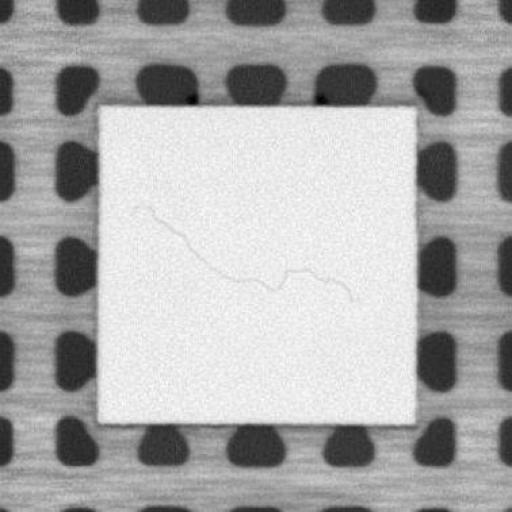DIE_CRACK: (138, 199, 352, 301)
